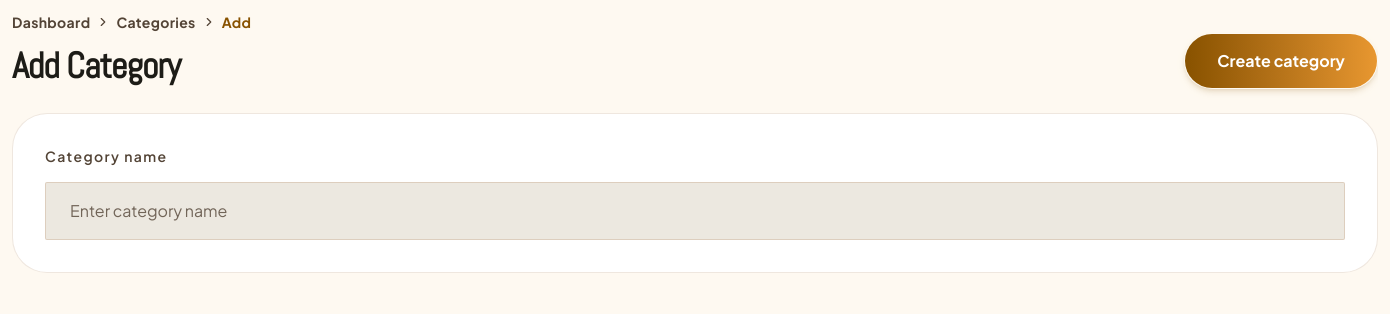
Test case: AddCategoryPage › shows a duplicate-name API error under Category name
In the field labelled "Category name": (695, 211) [45,182,1345,240], type "Test Cat"
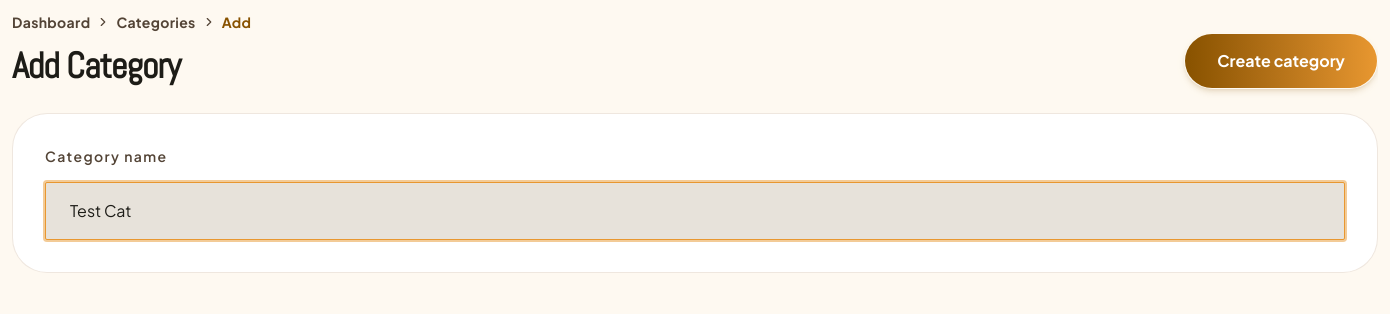
Click the button "Create category": (1281, 61) [1184,33,1378,89]
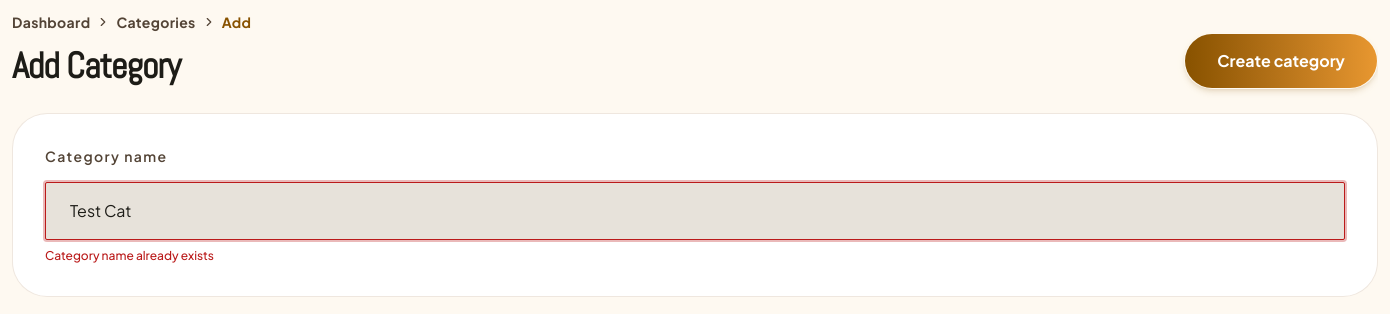
Expected: the text "Category name already exists" is shown, [45,248,214,263]
